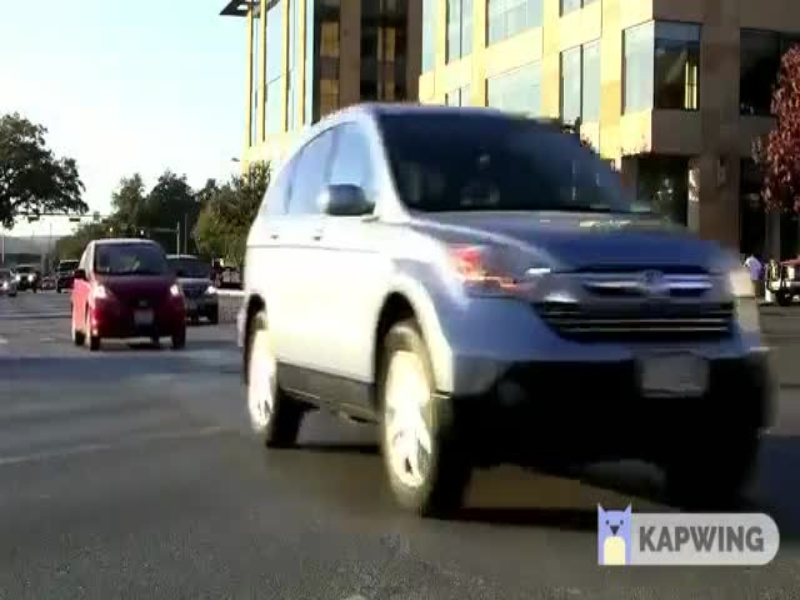car: (60, 233, 193, 362)
suv: (216, 98, 783, 515)
